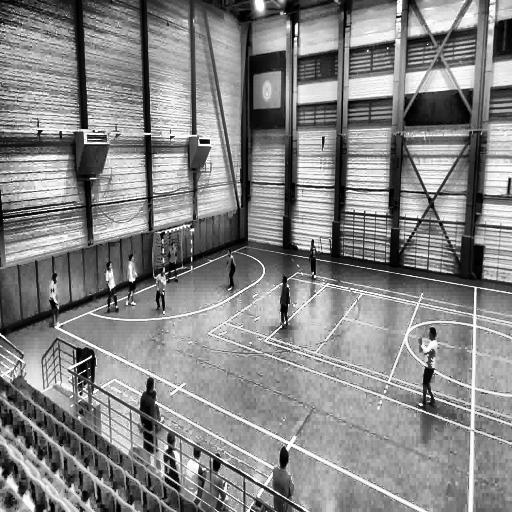player: (141, 377, 162, 474), (416, 326, 438, 408), (271, 446, 294, 512), (163, 427, 183, 489), (48, 270, 62, 332), (105, 262, 120, 312), (279, 274, 291, 329), (127, 254, 137, 306), (155, 267, 166, 313), (225, 249, 237, 291), (167, 243, 179, 283), (309, 239, 317, 279)
